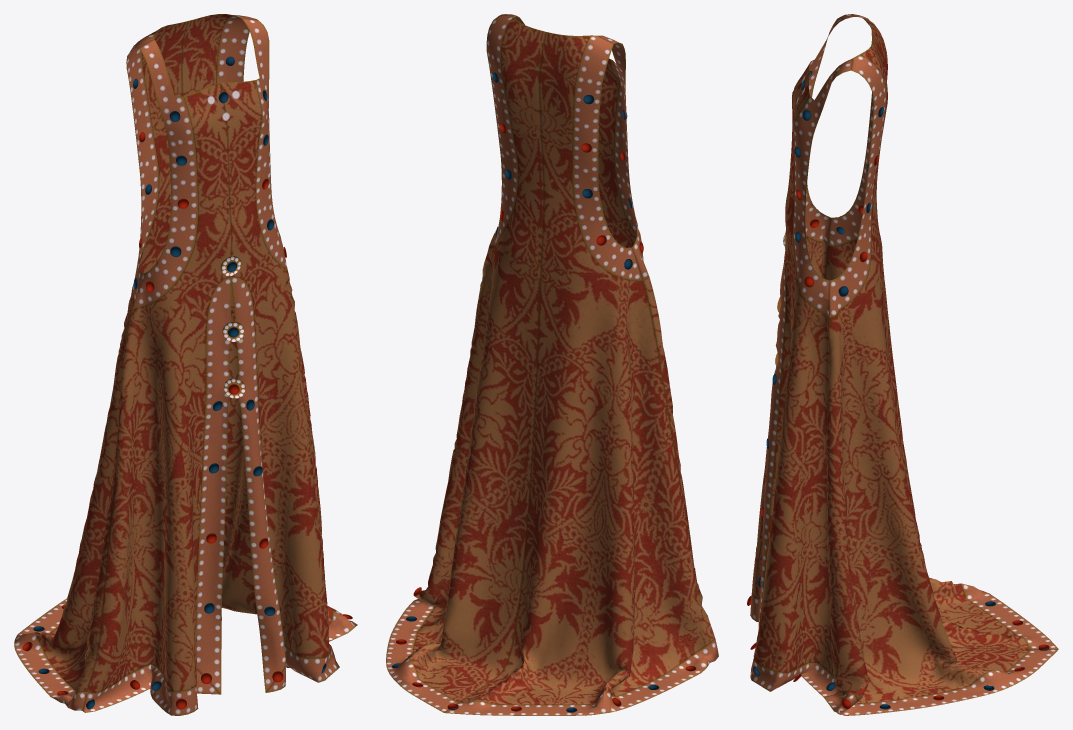
Rendered from surcoat-embroidered.glb.
3 views of the same model, side by side, from view 1: azimuth 30°, elevation 25°; view 2: azimuth 150°, elevation 25°; view 3: azimuth 270°, elevation 25° (orthographic). The views are drawn at different scales.
Parts seen in each view (by area): view 1: defaultMaterial; view 2: defaultMaterial; view 3: defaultMaterial.
Part boxes in pixels (x1,y1,x2,y2): defaultMaterial: (14,14,357,715); defaultMaterial: (386,14,718,715); defaultMaterial: (747,14,1058,715).
Bounding box in the file's own units: 308 × 617 × 285.
Materials: 1 (1 with a texture image).
